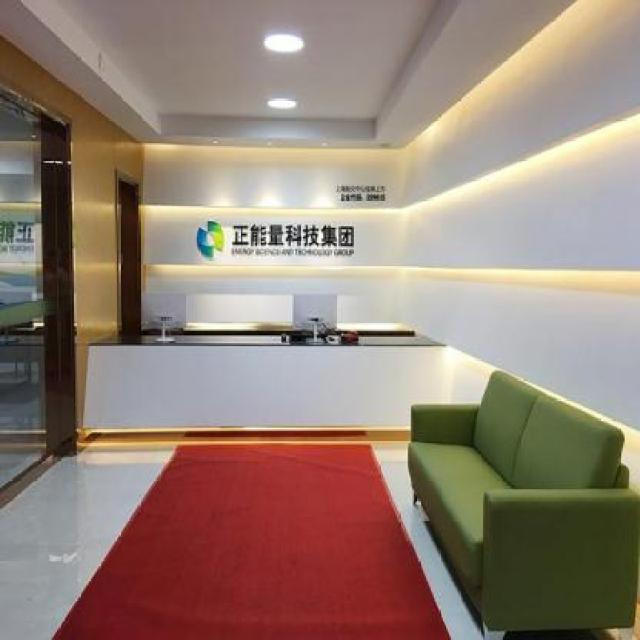frontdesk: (80, 314, 452, 451)
